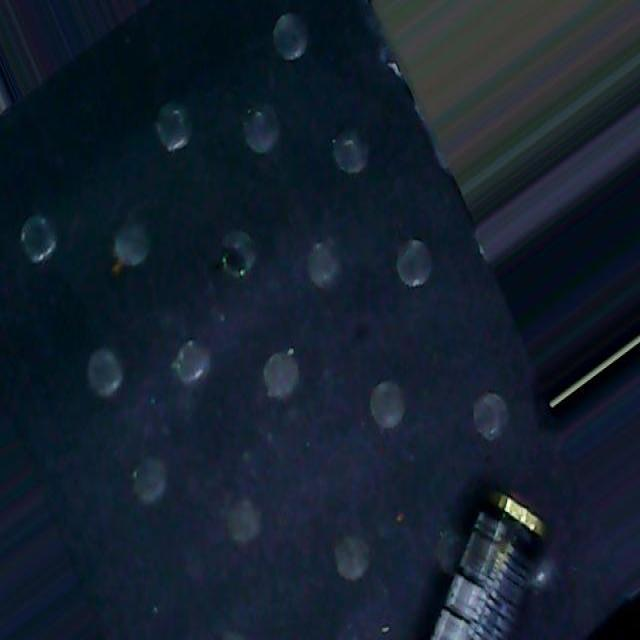-Hazardous waste - battery-: (427, 486, 550, 640)
